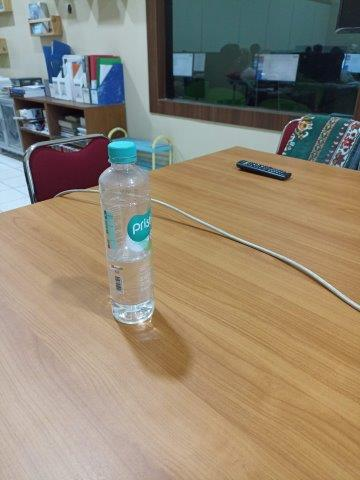botolplastik: (98, 140, 155, 325)
